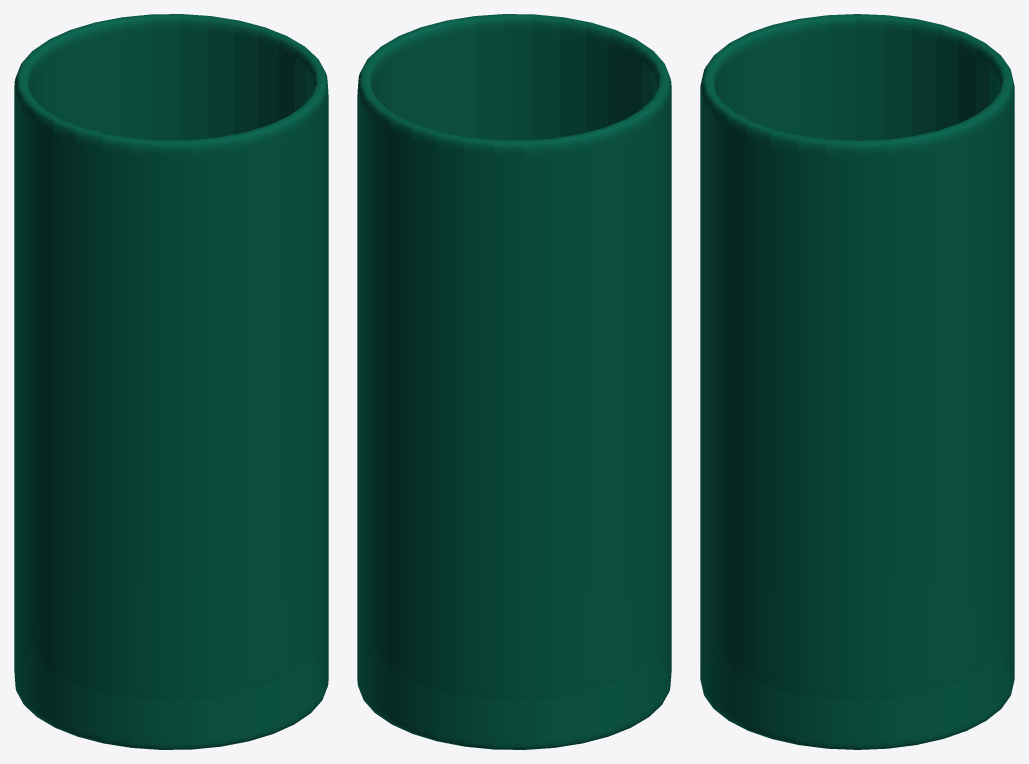
File: Glass2.FBX
3 views of the same model, side by side, from view 1: azimuth 30°, elevation 25°; view 2: azimuth 150°, elevation 25°; view 3: azimuth 270°, elevation 25° (orthographic).
Parts seen in each view (by area): view 1: Glass002; view 2: Glass002; view 3: Glass002.
Part boxes in pixels (x1,y1,x2,y2): Glass002: (14, 14, 328, 749); Glass002: (357, 14, 671, 749); Glass002: (700, 14, 1014, 749).
Bounding box in the file's own units: 13.15 × 27.97 × 13.15.
